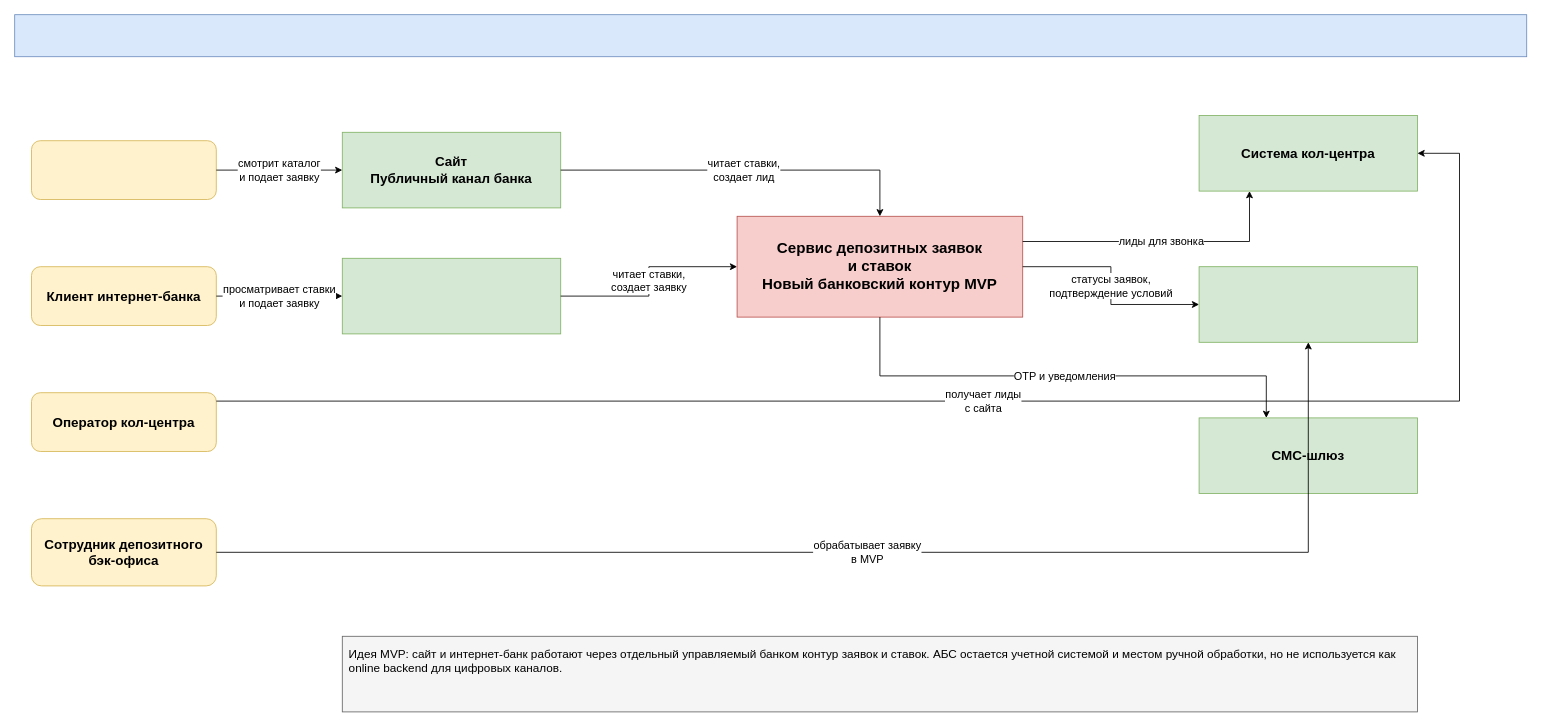
The diagram is 1541 pixels wide and 727 high, and some of its shapes have lost their labels. Here are the shapes that lost their labels. From the top down, the centre of each, then its label:
the point at 770,35: C4 Context. MVP открытия депозитов онлайн
the point at 123,170: Потенциальный клиент
the point at 451,295: Интернет-банк Канал для действующих клиентов
the point at 1308,304: АБС Учет и подтверждение депозитов
